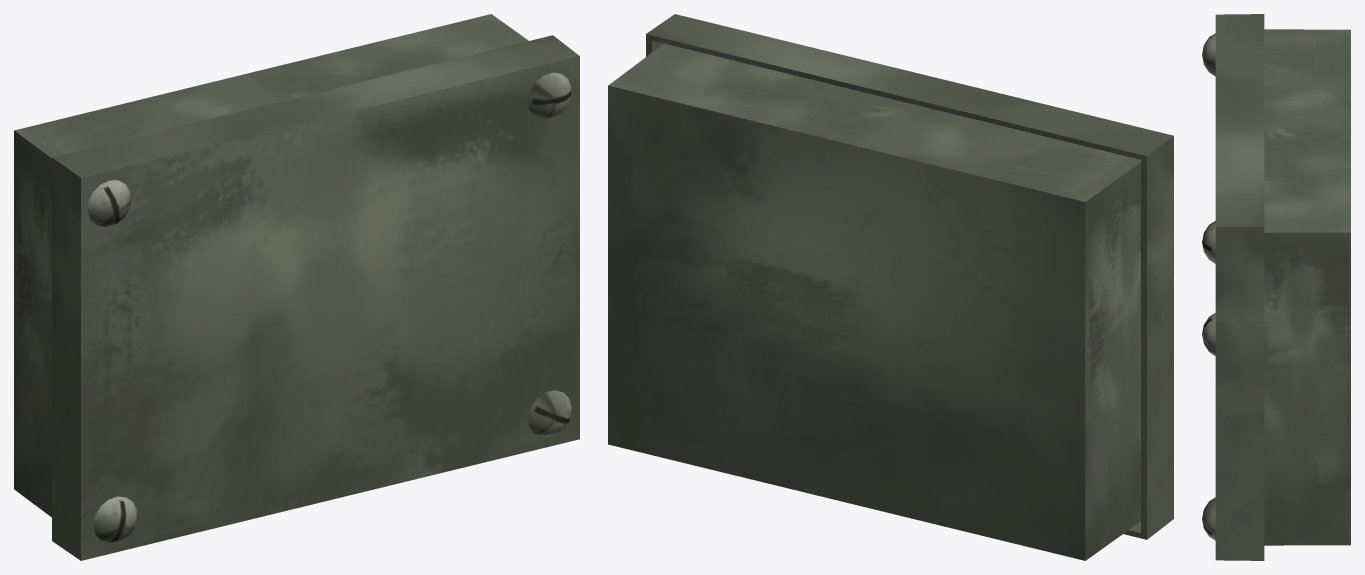
The model's file is switchbox_01.fbx.
3 views of the same model, side by side, from view 1: azimuth 30°, elevation 25°; view 2: azimuth 150°, elevation 25°; view 3: azimuth 270°, elevation 25° (orthographic). The views are drawn at different scales.
Visible parts, largest first — view 1: Box082; view 2: Box082; view 3: Box082.
Part boxes in pixels (left/top/right/bottom): Box082: left=14, top=14, right=579, bottom=560; Box082: left=608, top=14, right=1173, bottom=560; Box082: left=1202, top=14, right=1350, bottom=560.
Size of the model in its own units: 82.85 by 60.58 by 24.48.
